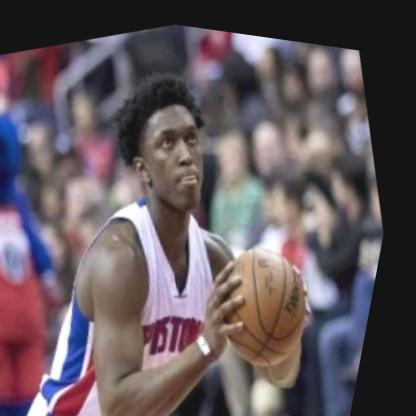basketball: (205, 217, 351, 379)
